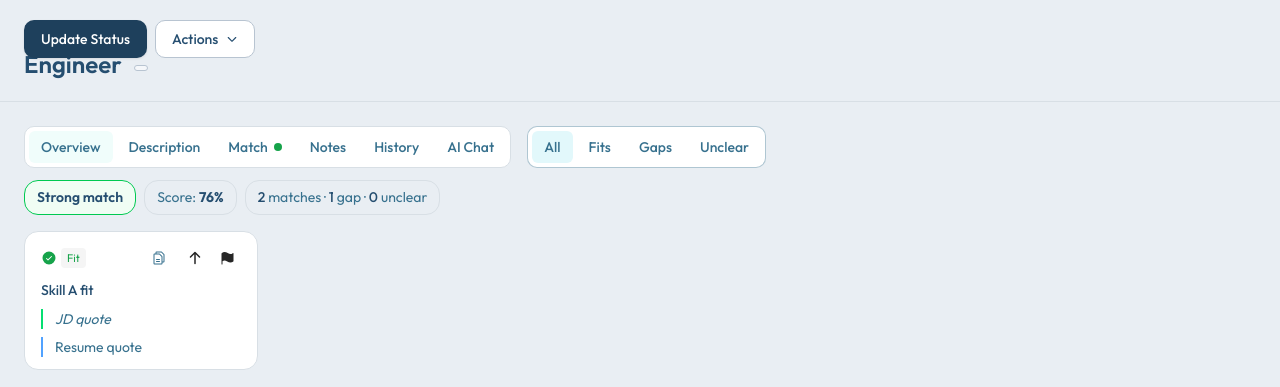
JobDetailsLayout › shows match Actions menu items when MatchTabContent is mounted on match route
Expected: the tab "All" is shown, [532,131,572,163]
Expected: the tab "Fits" is shown, [576,131,623,163]
Click the button "Actions".
click(205, 39)  # box [155,20,255,58]
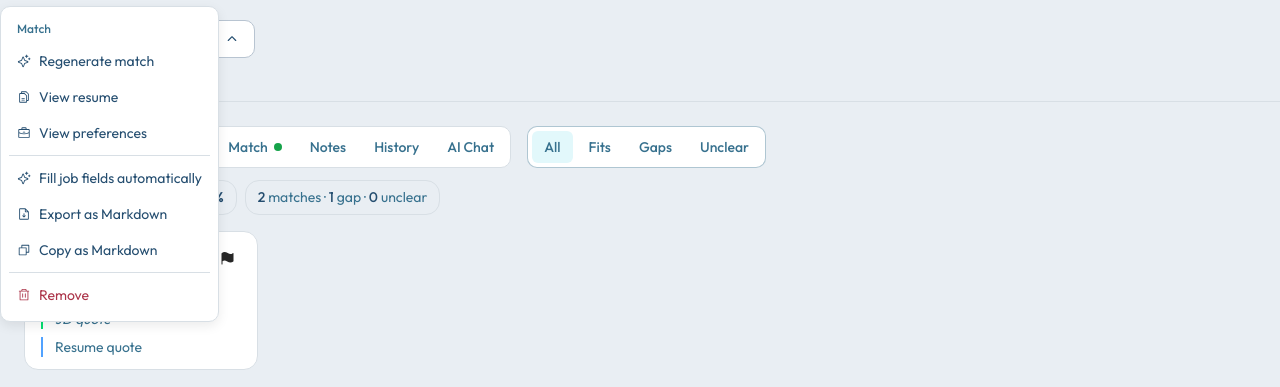
Now the menu item "Regenerate match" is shown, box [17,52,154,70]
Now the menu item "View resume" is shown, box [17,88,118,106]
Now the menu item "View preferences" is shown, box [17,124,147,142]
